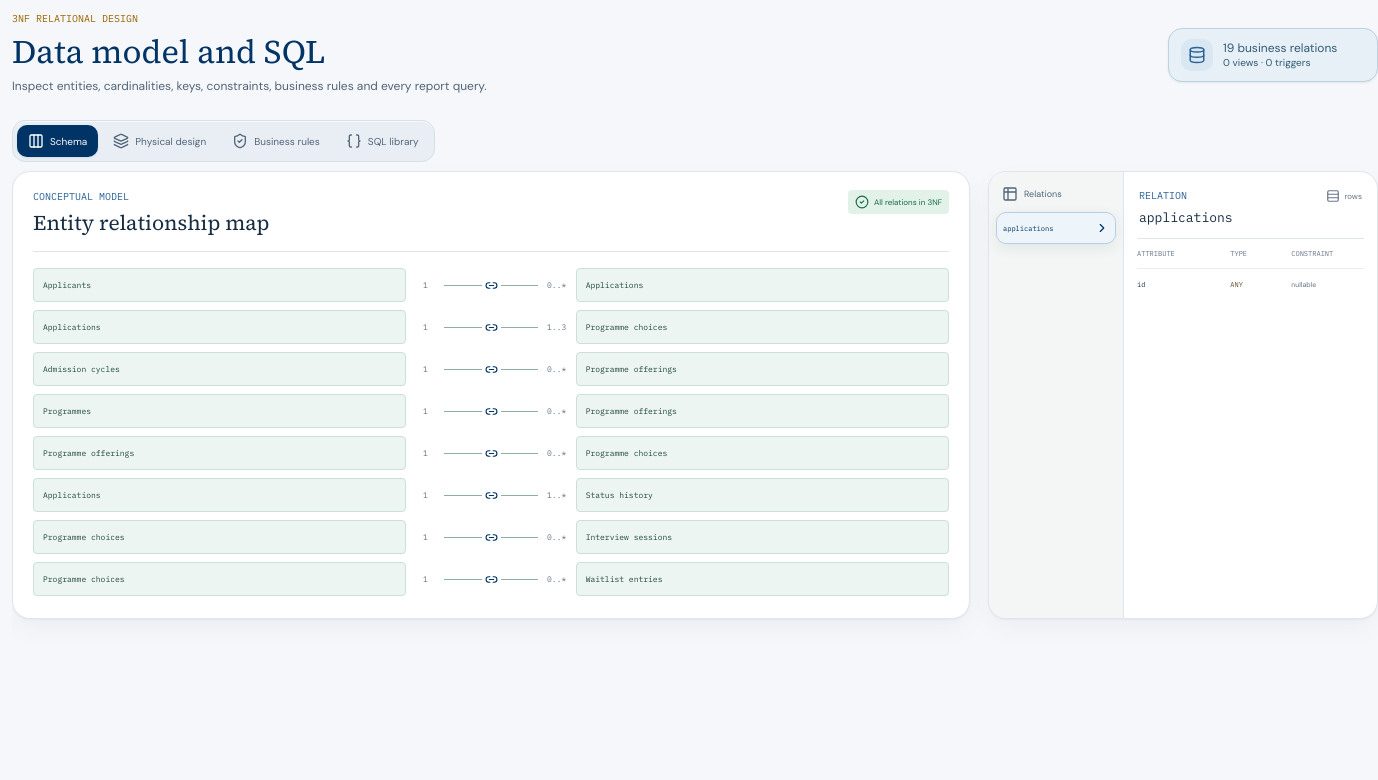
database-facing workspaces › shows physical design metadata in the Data Model workspace
Check: the heading "Data model and SQL" is shown, box [12,29,325,74]
Check: the text "19 business relations" is shown, box [1223,40,1337,56]
Click the tab "Physical design": coordinates (160, 141) [102,125,217,157]
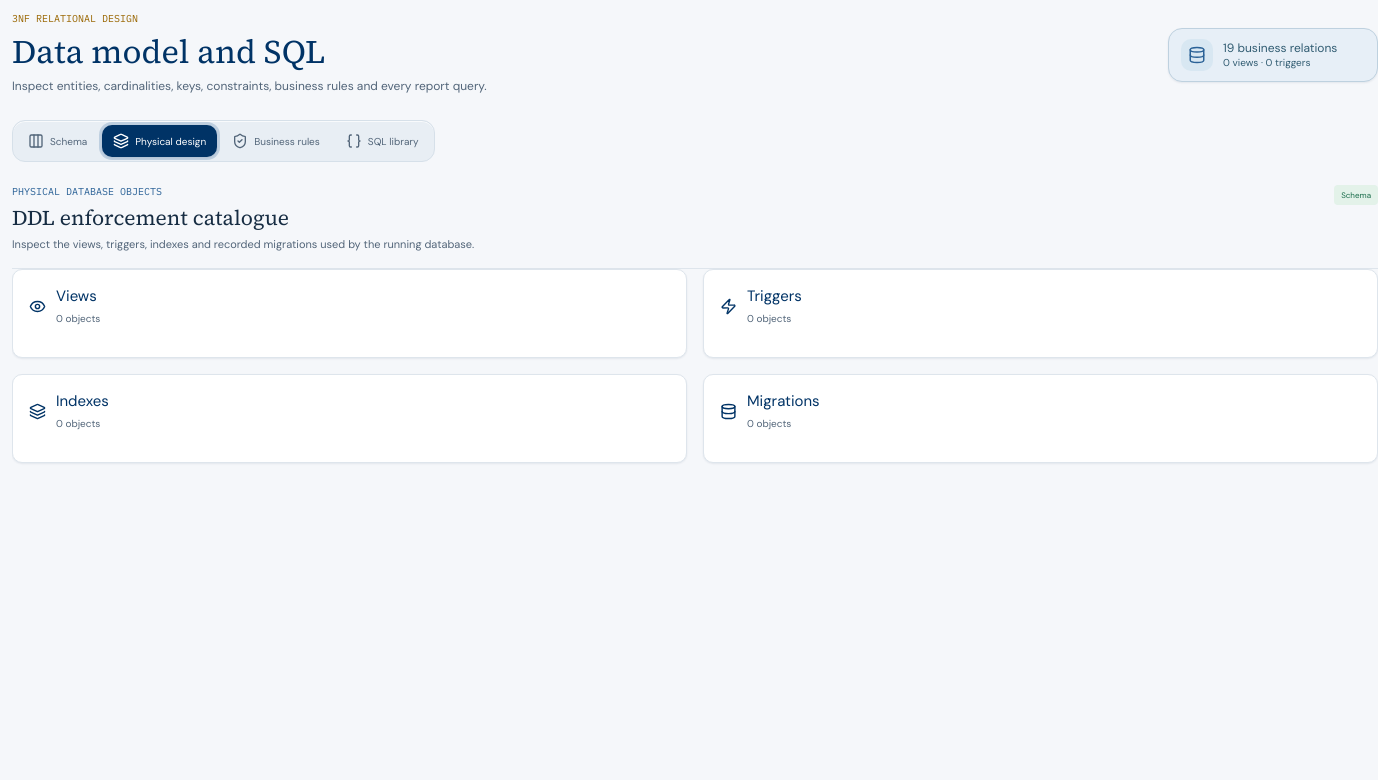
Check: the heading "Views" is shown, box [56,286,100,306]
Check: the heading "Triggers" is shown, box [747,286,802,306]
